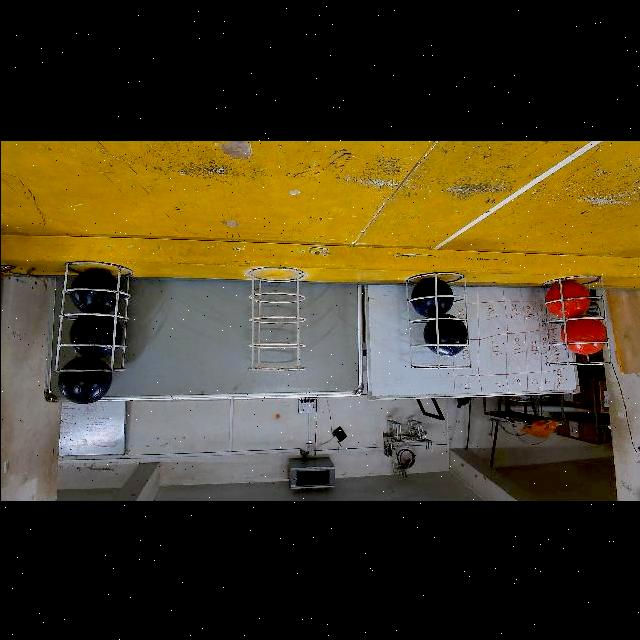P: (58, 356, 111, 402), (69, 268, 116, 312), (68, 314, 114, 358), (422, 314, 468, 356), (410, 276, 452, 318)
R: (545, 280, 590, 318), (560, 318, 606, 354)
S: (50, 257, 128, 371), (247, 267, 303, 367), (410, 272, 466, 366), (549, 274, 601, 368)
